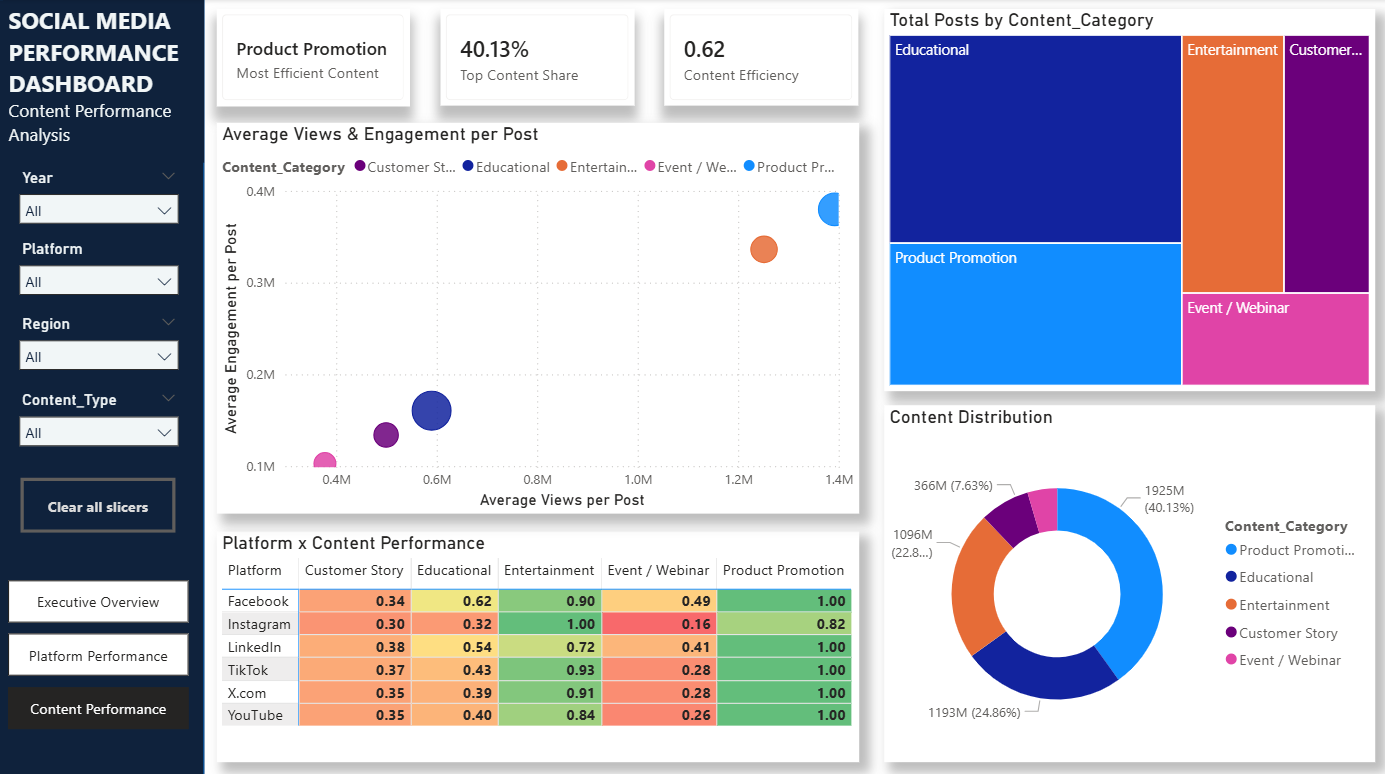

This screenshot's page, from the dashboard's own definition file:
{"tool":"powerbi","page":{"name":"Content Performance","canvas":[1280,720],"ordinal":2},"visuals":[{"type":"shape","box":[0,0,189.7,719.9],"z":0},{"type":"textbox","box":[4.9,0,184.5,150.5],"z":1000},{"type":"slicer","fields":{"Values":["Dim_Date.Year"]},"box":[8.7,150.2,166.6,66.6],"z":2000},{"type":"slicer","fields":{"Values":["Dim_Platform.Platform"]},"box":[8.7,215.7,166.6,58.6],"z":3000},{"type":"slicer","fields":{"Values":["Dim_Region.Region"]},"box":[8.7,284.6,166.6,58.6],"z":4000},{"type":"slicer","fields":{"Values":["Dim_Content.Content_Type"]},"box":[8.7,354.7,166.6,62],"z":5000},{"type":"pageNavigator","box":[9.3,533.7,166.3,138.4],"z":6000},{"type":"actionButton","box":[20.7,440,142.4,50.5],"z":7000},{"type":"cardVisual","fields":{"Data":["Measures_Table.Most Efficient Content"]},"box":[201.2,9.3,177.9,89.5],"z":8000},{"type":"cardVisual","fields":{"Data":["Measures_Table.Top Content Share"]},"box":[407.2,9.4,178.4,89.2],"z":9000},{"type":"cardVisual","fields":{"Data":["Measures_Table.Content Efficiency"]},"box":[612.5,9.4,178.4,89.2],"z":10000},{"type":"pivotTable","title":"Platform x Content Performance","fields":{"Rows":["Dim_Platform.Platform"],"Columns":["Dim_Content.Content_Category"],"Values":["Measures_Table.Content Efficiency"]},"box":[201.2,489.5,590.7,211.6],"z":11000},{"type":"treemap","fields":{"Group":["Dim_Content.Content_Category"],"Values":["Measures_Table.Total Posts"]},"box":[814,9.3,451.2,351.2],"z":12000},{"type":"donutChart","title":"Content Distribution","fields":{"Category":["Dim_Content.Content_Category"],"Y":["Measures_Table.Total Views"]},"box":[814,373.3,451.2,327.9],"z":13000},{"type":"scatterChart","title":"Average Views & Engagement per Post","fields":{"Y":["Measures_Table.Average Engagement per Post"],"X":["Measures_Table.Average Views per Post"],"Size":["Measures_Table.Total Posts"],"Series":["Dim_Content.Content_Category"]},"box":[201.2,114,590.7,359.3],"z":14000}]}

Visuals, with their boxes in screenshot pixels (x1, y1, x2, y2), scaled from the page's 1280x720 canvas onto the 1385x774 screenshot:
shape: rect(0, 0, 205, 773)
textbox: rect(5, 0, 205, 162)
slicer - Dim_Date.Year: rect(9, 161, 190, 233)
slicer - Dim_Platform.Platform: rect(9, 232, 190, 295)
slicer - Dim_Region.Region: rect(9, 306, 190, 369)
slicer - Dim_Content.Content_Type: rect(9, 381, 190, 448)
pageNavigator: rect(10, 574, 190, 723)
actionButton: rect(22, 473, 176, 527)
cardVisual - Measures_Table.Most Efficient Content: rect(218, 10, 410, 106)
cardVisual - Measures_Table.Top Content Share: rect(441, 10, 634, 106)
cardVisual - Measures_Table.Content Efficiency: rect(663, 10, 856, 106)
"Platform x Content Performance" pivotTable: rect(218, 526, 857, 754)
treemap - Dim_Content.Content_Category x Measures_Table.Total Posts: rect(881, 10, 1369, 388)
"Content Distribution" donutChart: rect(881, 401, 1369, 754)
"Average Views & Engagement per Post" scatterChart: rect(218, 123, 857, 509)
